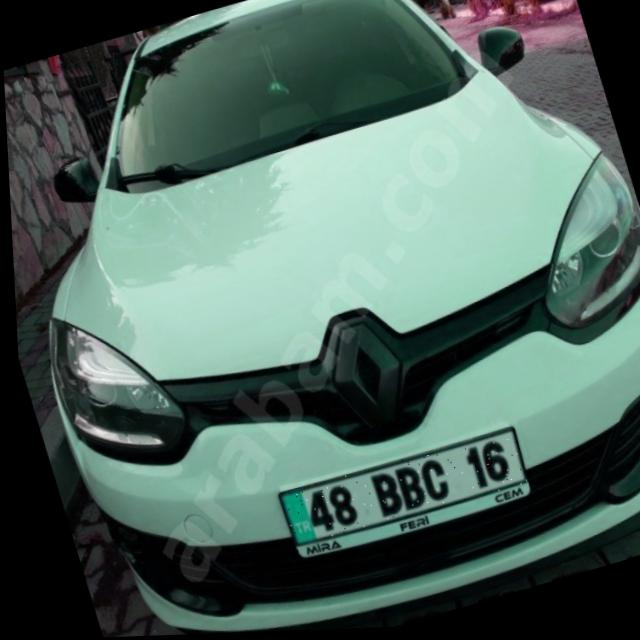license_plate: (271, 429, 525, 552)
